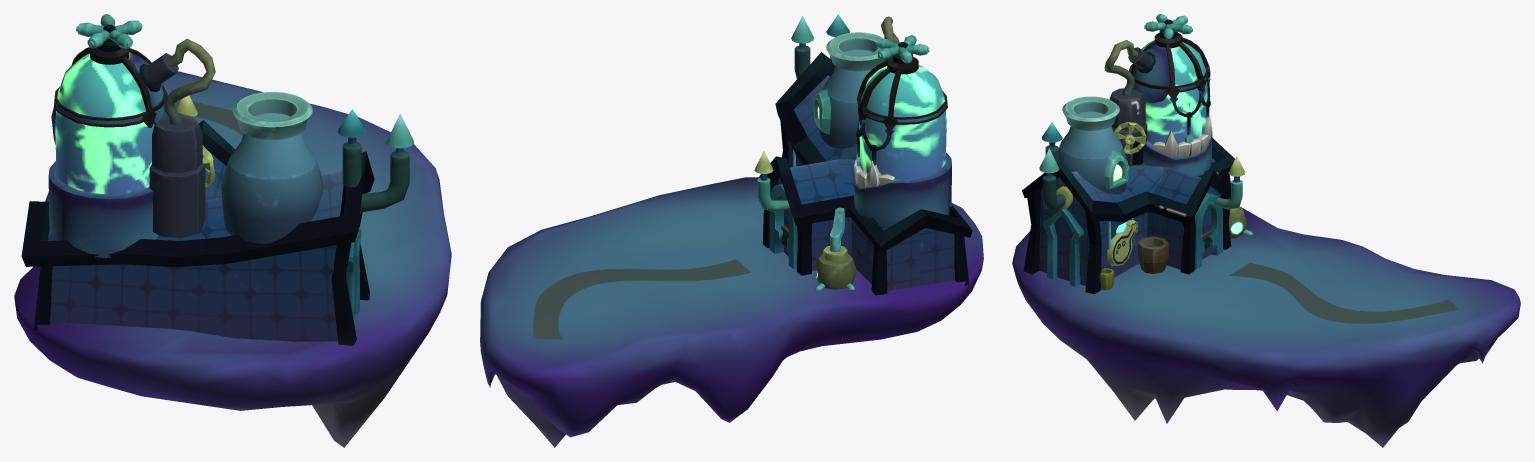
The model's file is labaratoria.fbx.
The picture shows the model from 3 angles, left to right: view 1: azimuth 30°, elevation 25°; view 2: azimuth 150°, elevation 25°; view 3: azimuth 270°, elevation 25°; orthographic projection. The views are drawn at different scales.
Parts seen in each view (by area): view 1: Laboratory; view 2: Laboratory; view 3: Laboratory.
Part boxes in pixels (x1,y1,x2,y2): Laboratory: (14,14,451,447); Laboratory: (480,14,983,447); Laboratory: (1012,14,1520,447).
Size of the model in its own units: 3329 by 3003 by 4209.
